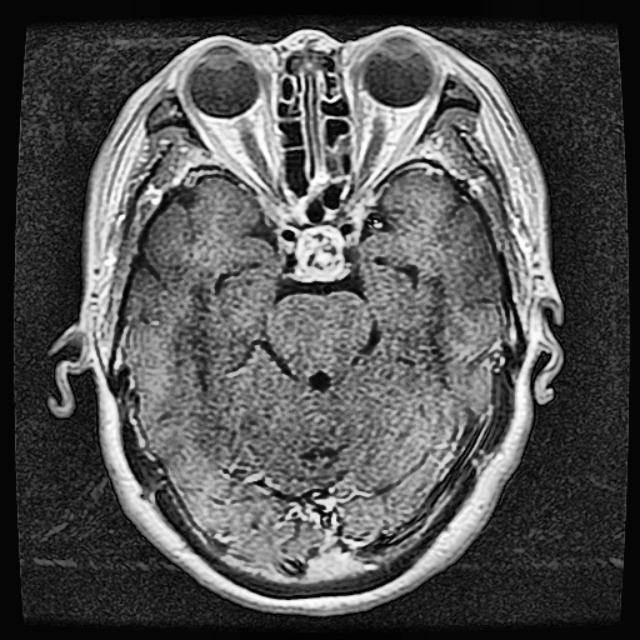Pituitary: (297, 223, 347, 280)
